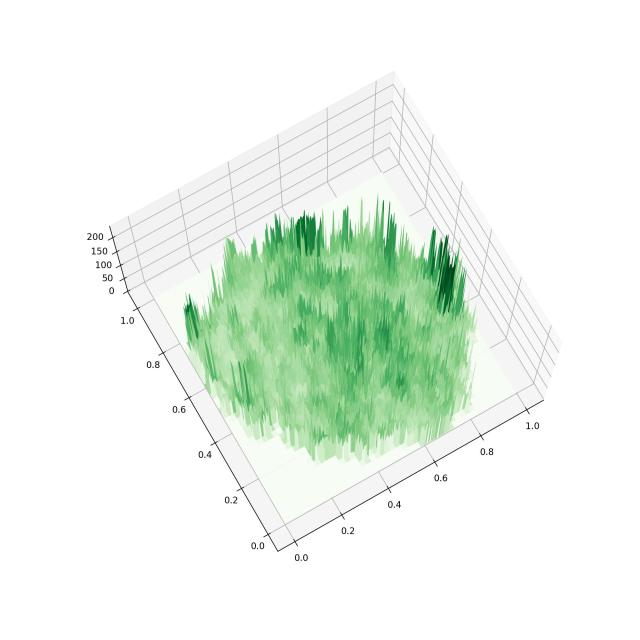fir: (65, 28, 614, 584)
